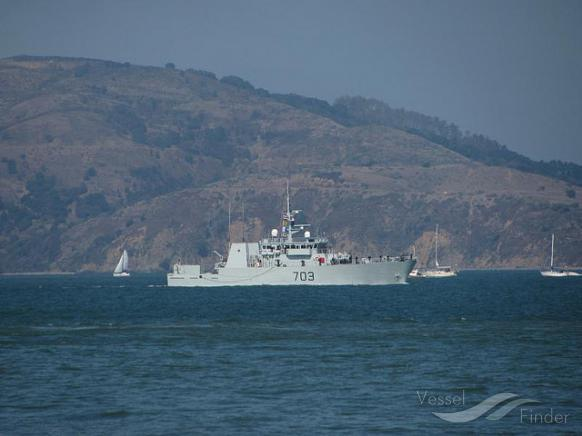OCR: (290, 269, 316, 283)
